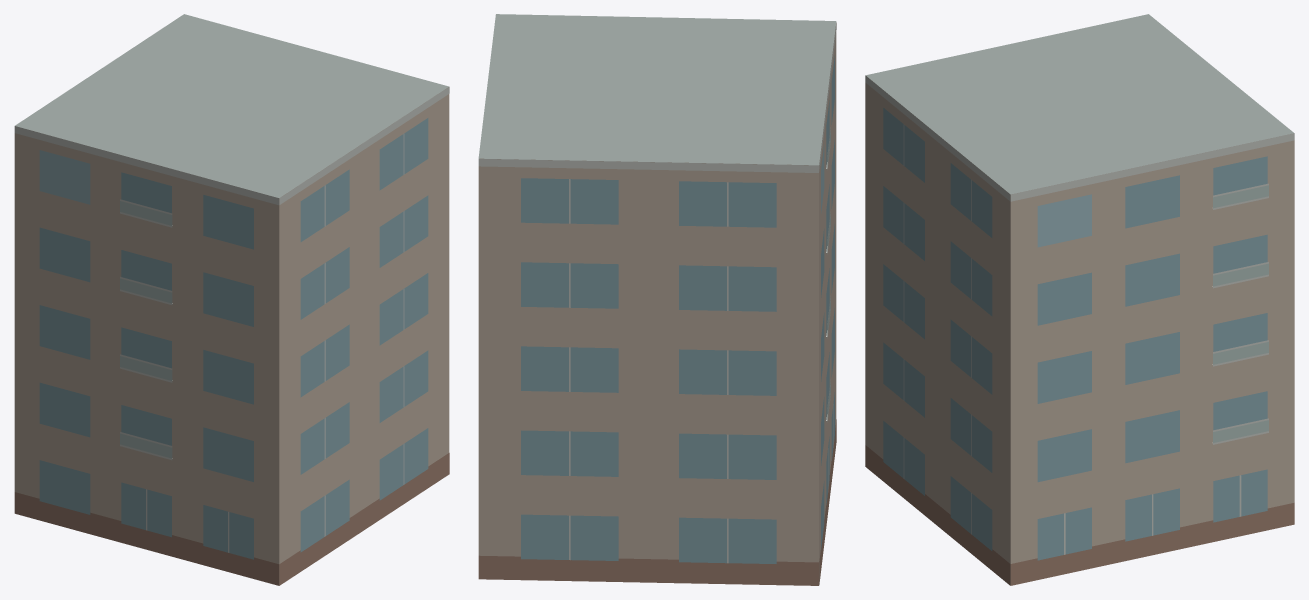
The model's file is survey-upis-32832895.glb.
The picture shows the model from 3 angles, left to right: view 1: azimuth 30°, elevation 25°; view 2: azimuth 150°, elevation 25°; view 3: azimuth 270°, elevation 25°; orthographic projection. The views are drawn at different scales.
Parts seen in each view (by area): view 1: survey-upis-32832895.tmp; view 2: survey-upis-32832895.tmp; view 3: survey-upis-32832895.tmp.
Boxes of the visible parts, x1,y1,x2,y2 form: survey-upis-32832895.tmp: (14,14,449,585); survey-upis-32832895.tmp: (478,14,836,585); survey-upis-32832895.tmp: (865,14,1294,585).
Bounding box in the file's own units: 13.07 × 13.2 × 13.13.
